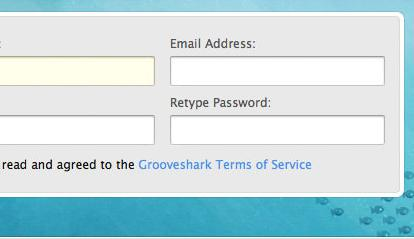field: (168, 114, 385, 146), (169, 54, 385, 86)
field_with_label: (166, 97, 386, 148), (168, 37, 387, 88)
